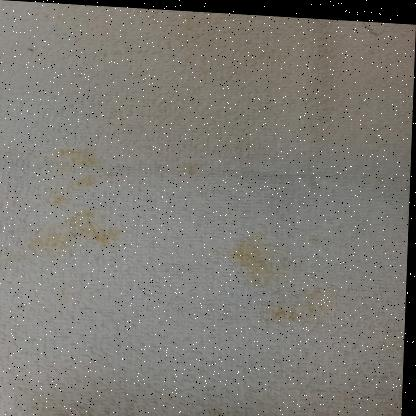spot: (1, 206, 127, 257), (31, 141, 116, 211), (227, 229, 293, 302), (269, 286, 343, 334), (173, 155, 203, 179)
